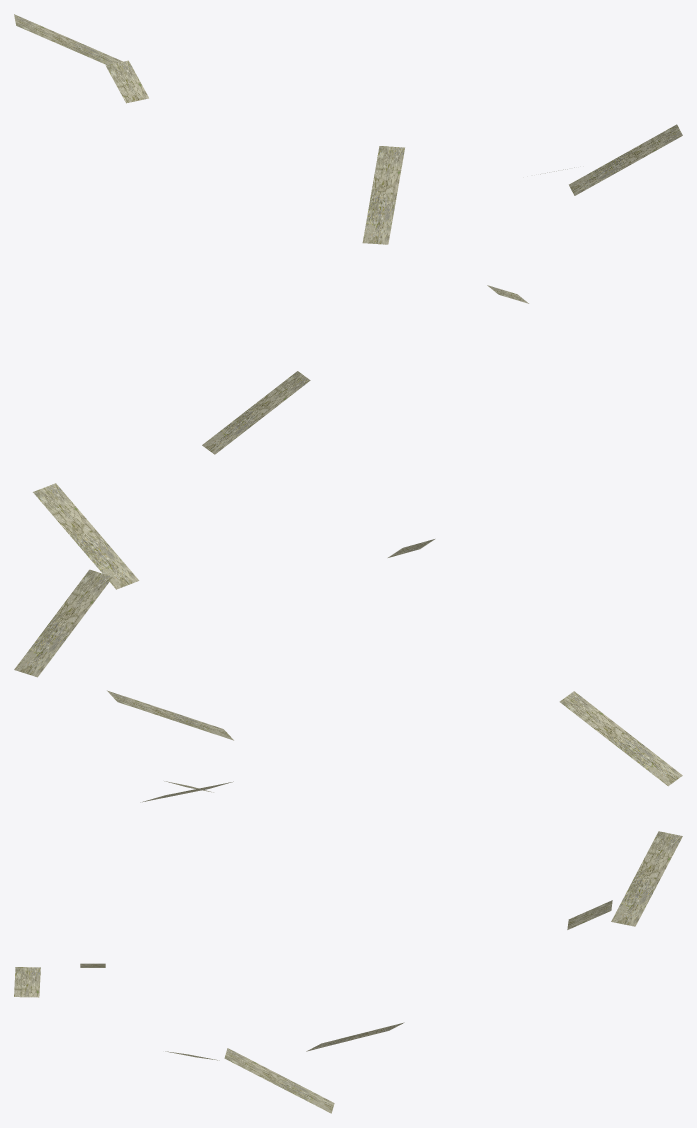
File: SM_Chateaux01_Col.fbx
3 renders of one model, top to bottom at view 1: azimuth 30°, elevation 25°; view 2: azimuth 150°, elevation 25°; view 3: azimuth 270°, elevation 25°, orthographic. The views are drawn at different scales.
Visible parts, largest first — view 1: SM_Chateaux01_Col; view 2: SM_Chateaux01_Col; view 3: SM_Chateaux01_Col.
Boxes of the visible parts, left/top/right/bottom form: SM_Chateaux01_Col: left=14, top=14, right=682, bottom=454; SM_Chateaux01_Col: left=14, top=483, right=682, bottom=802; SM_Chateaux01_Col: left=14, top=831, right=682, bottom=1113.
Bounding box in the file's own units: 5037 × 1749 × 5785.
